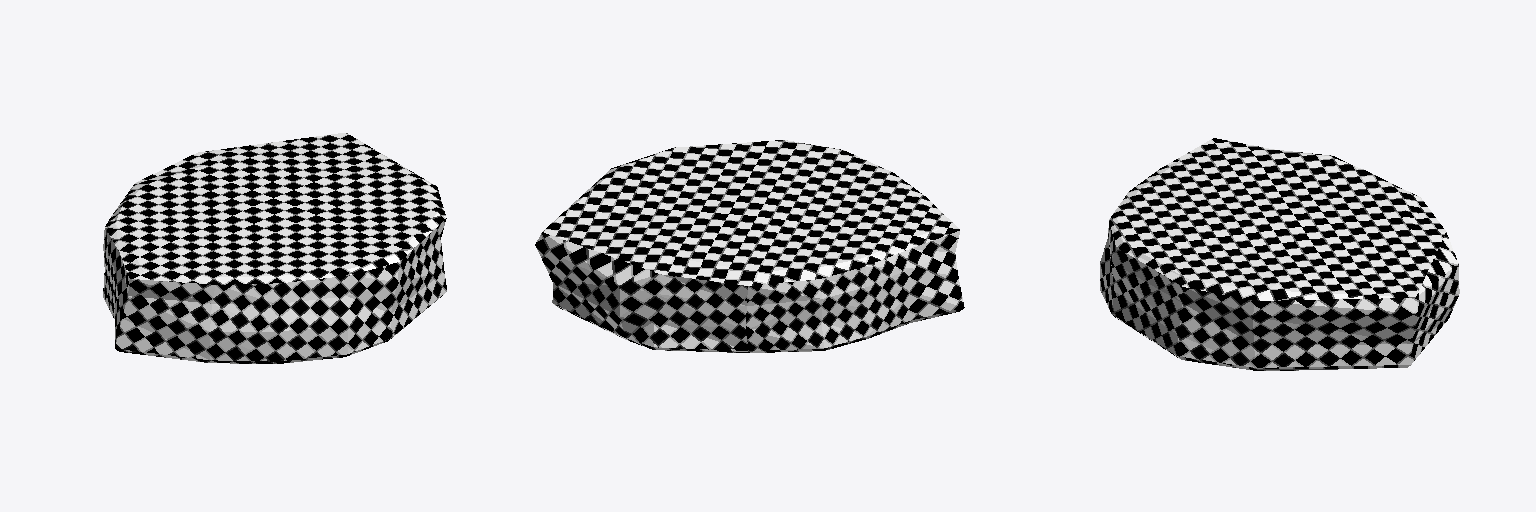
3 views of the same model, side by side, from view 1: azimuth 30°, elevation 25°; view 2: azimuth 150°, elevation 25°; view 3: azimuth 270°, elevation 25° (orthographic).
Parts seen in each view (by area): view 1: SandstoneRawLo; view 2: SandstoneRawLo; view 3: SandstoneRawLo.
Boxes of the visible parts, x1=… form: SandstoneRawLo: x1=103, y1=133, x2=446, y2=363; SandstoneRawLo: x1=535, y1=140, x2=964, y2=352; SandstoneRawLo: x1=1100, y1=138, x2=1459, y2=370.
Bounding box in the file's own units: 0.2652 × 0.0659 × 0.2444.
Materials: 1 (1 with a texture image).